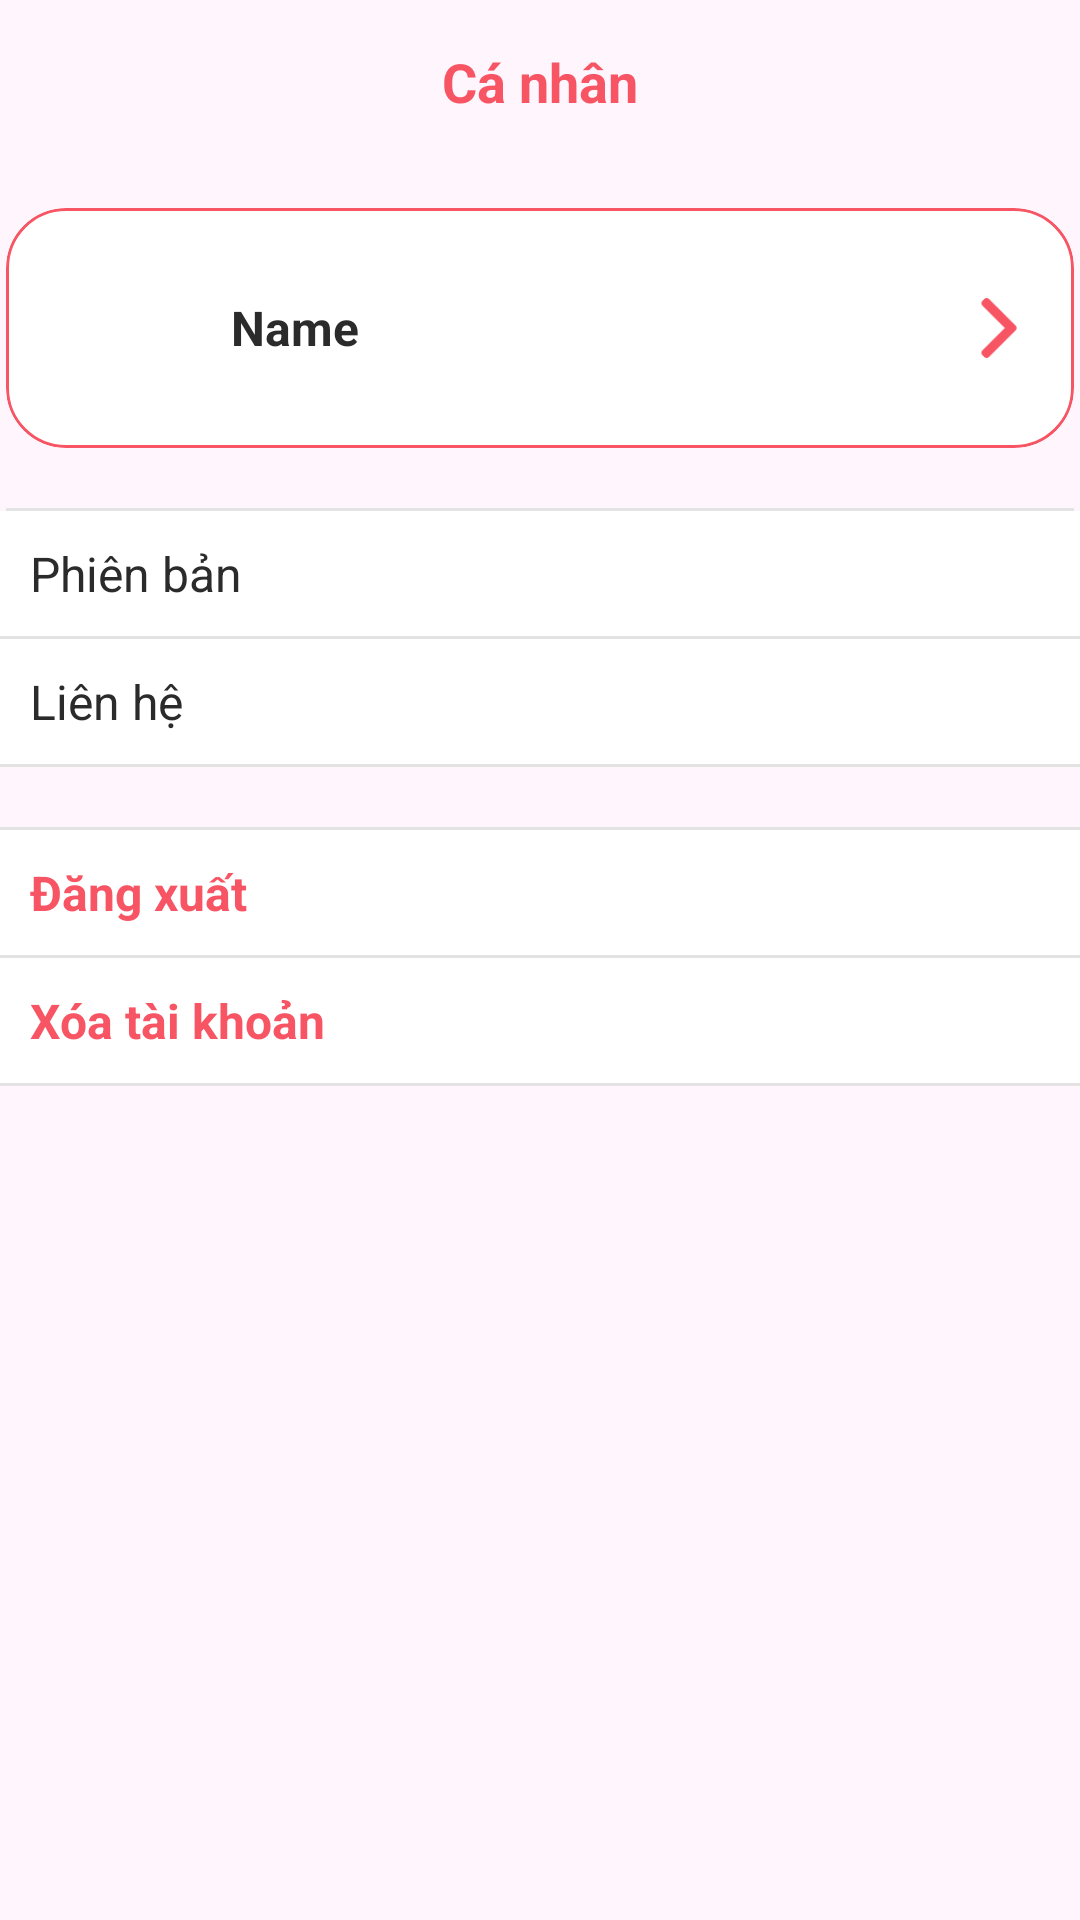

Point at icon controls on the screen. Image size 1080 x 1920, points as [x,y].
right arrow: [999,328]
